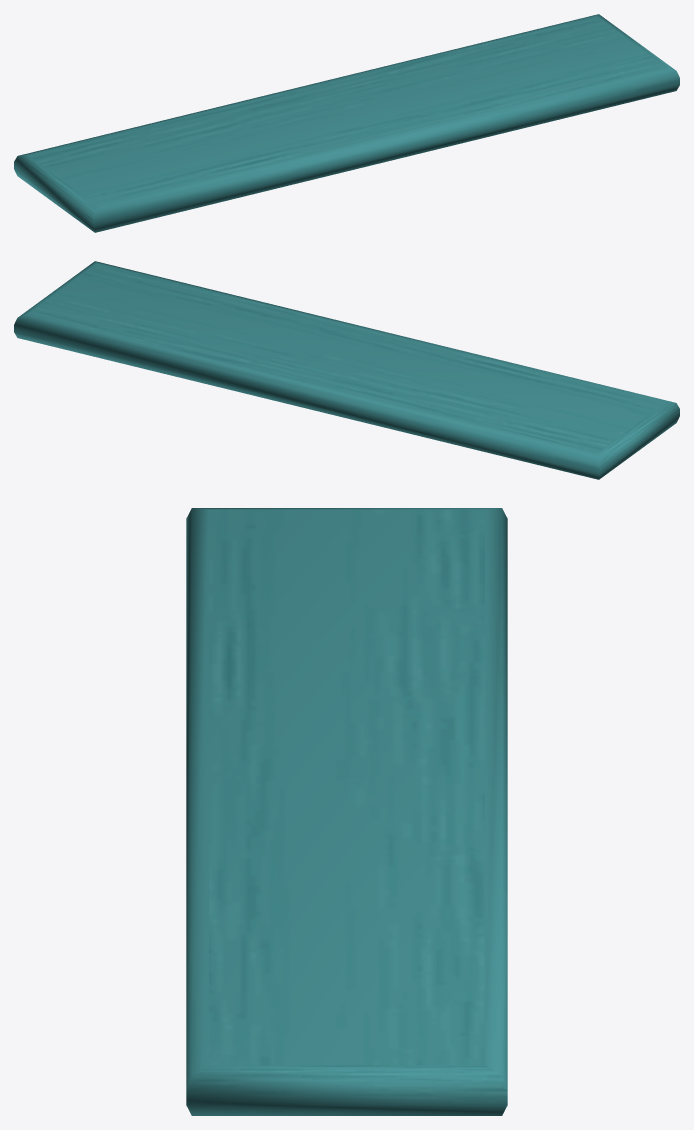
Rendered from Straight_Shelving_07.FBX.
3 renders of one model, top to bottom at view 1: azimuth 30°, elevation 25°; view 2: azimuth 150°, elevation 25°; view 3: azimuth 270°, elevation 25°, orthographic. The views are drawn at different scales.
Parts seen in each view (by area): view 1: Shelf_Straight; view 2: Shelf_Straight; view 3: Shelf_Straight.
Boxes of the visible parts, <box> form: Shelf_Straight: <box>14,14,679,232</box>; Shelf_Straight: <box>14,261,679,479</box>; Shelf_Straight: <box>186,508,507,1115</box>.
Size of the model in its own units: 200 by 8 by 47.55.
